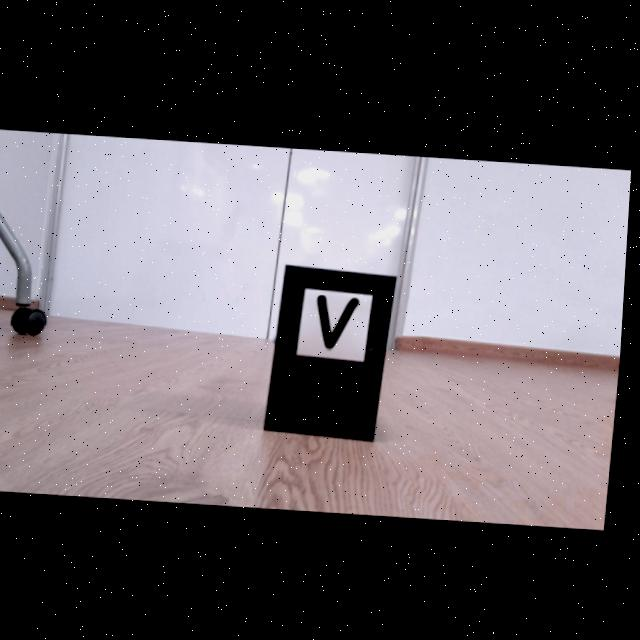V: (320, 293, 363, 347)
